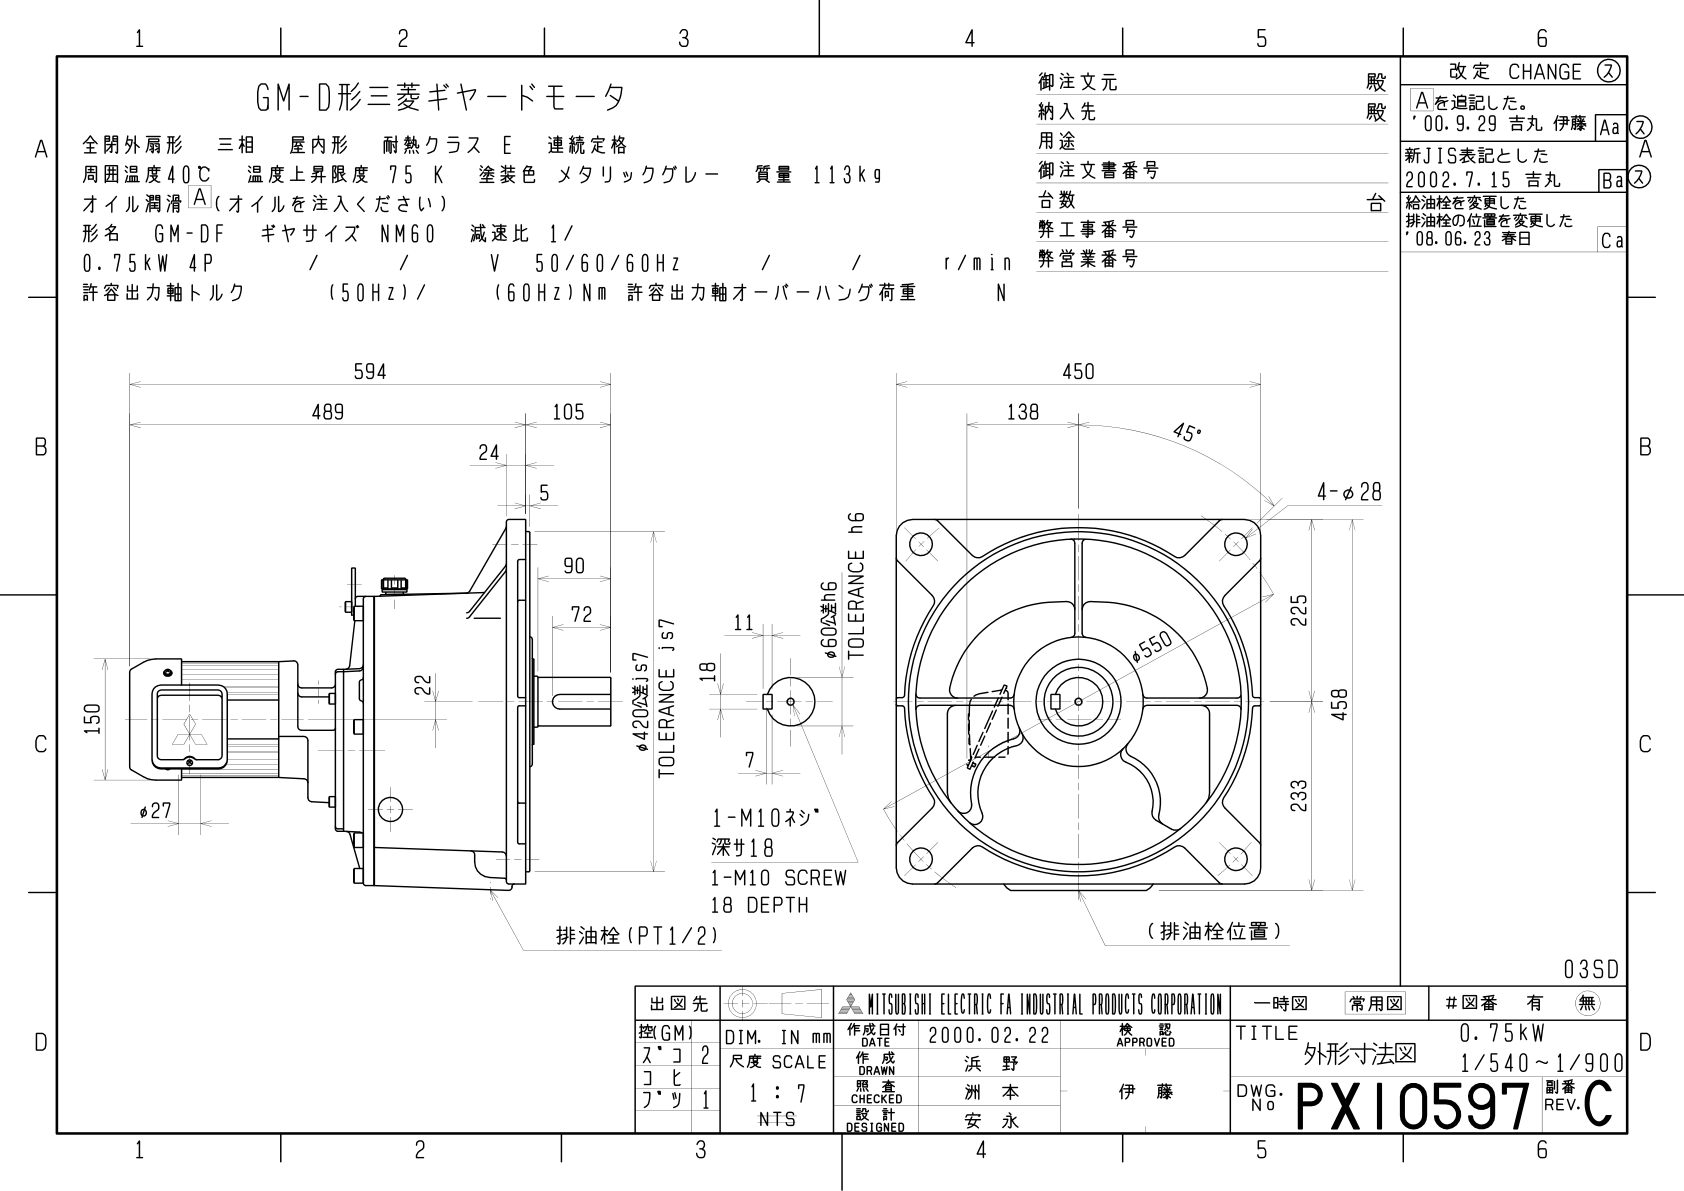GM_D_屋内＿三相_フランジ: (63, 302, 1395, 955)
